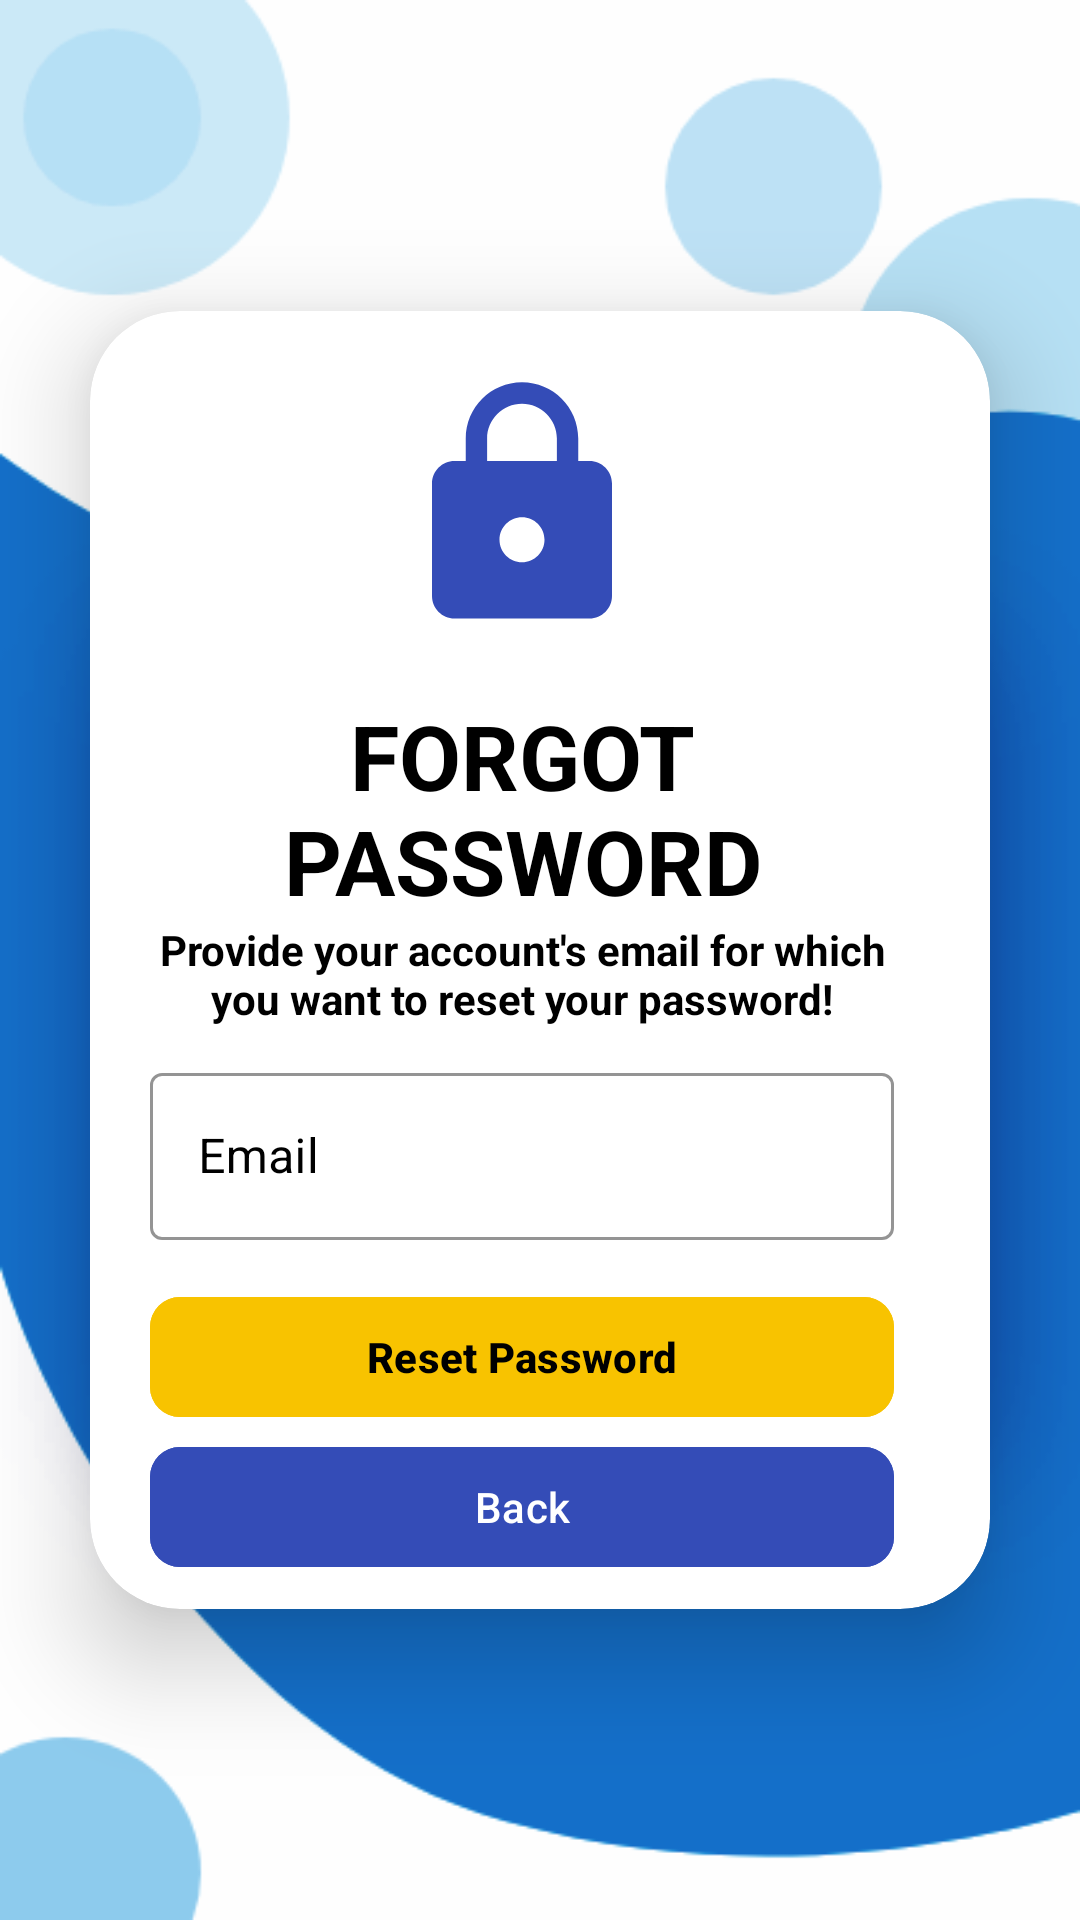

Icons on this 1080w x 1920h Android screen, each with the point to tap as (x,y):
lock: (522,500)
